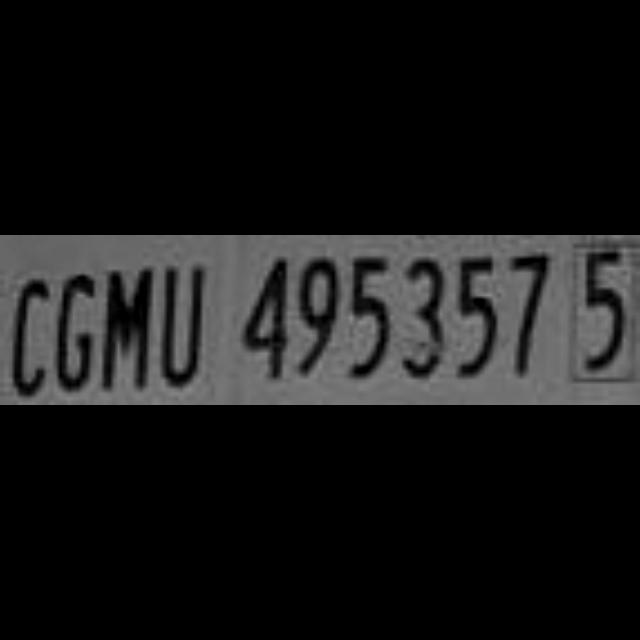3: (398, 250, 448, 384)
4: (242, 252, 294, 388)
5: (448, 249, 502, 383), (578, 244, 628, 380), (346, 250, 394, 382)
7: (506, 248, 554, 384)
9: (294, 250, 342, 382)
c: (5, 274, 55, 400)
g: (52, 269, 100, 397)
m: (99, 264, 158, 396)
u: (157, 259, 210, 397)
